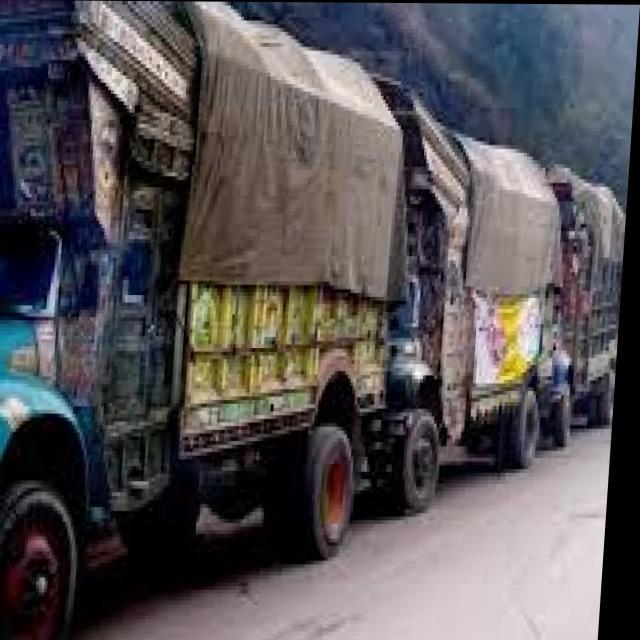covered: (0, 0, 412, 638), (366, 86, 566, 506), (538, 168, 632, 446)
